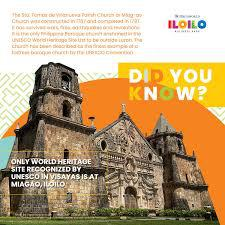Miagao Church: (2, 62, 215, 215)
